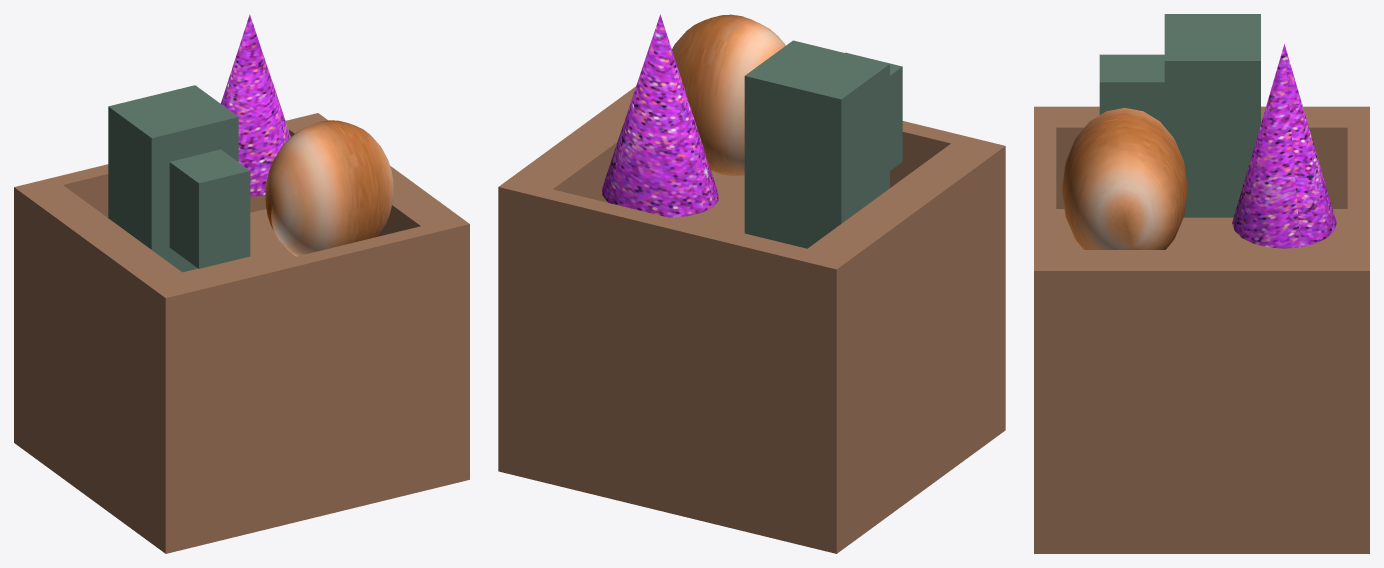
File: ojo.obj
3 views of the same model, side by side, from view 1: azimuth 30°, elevation 25°; view 2: azimuth 150°, elevation 25°; view 3: azimuth 270°, elevation 25° (orthographic). The views are drawn at different scales.
Bounding box in the file's own units: 3.61 × 4.64 × 3.12.
4 materials, 4 textured.
